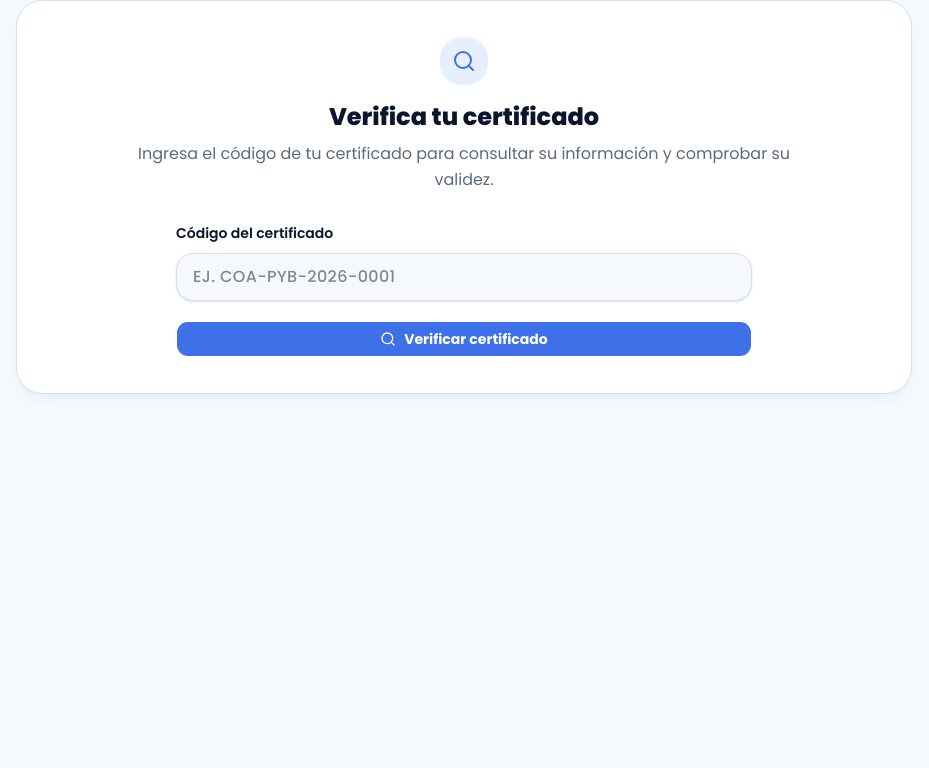
Scenario: uses Enter and finds a lowercase code with surrounding spaces
Type " coa-pyb-2026-0001 " into the field labelled "Código del certificado". click: (464, 277)
box: [176, 253, 752, 301]
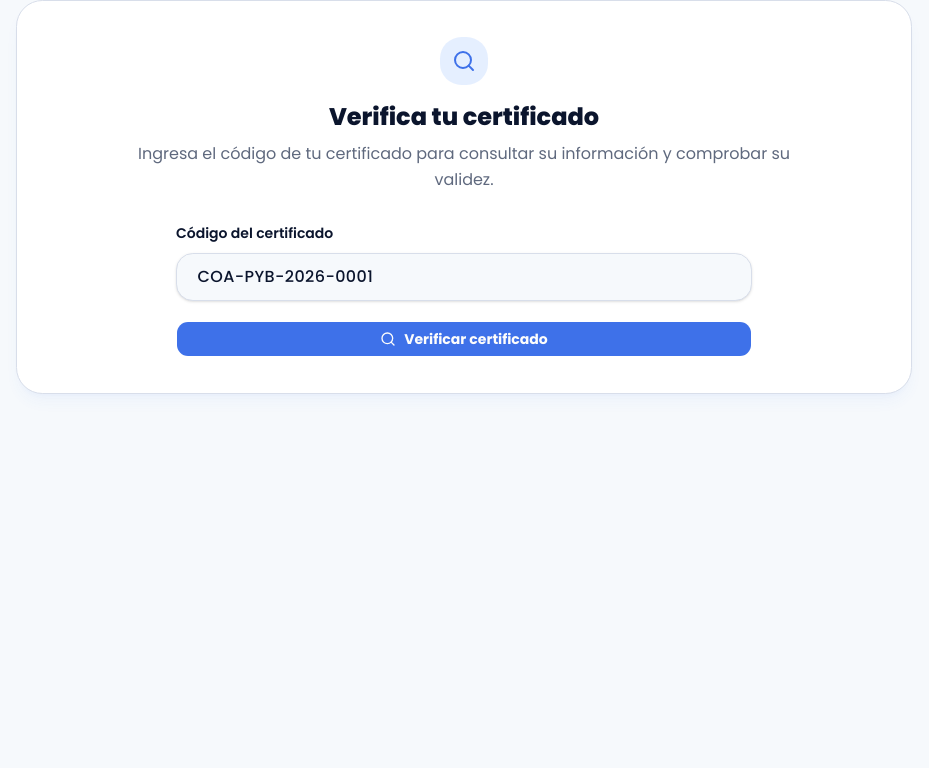
Submit the form named "Código del certificado", box [16, 0, 912, 394]
(page scrolled)
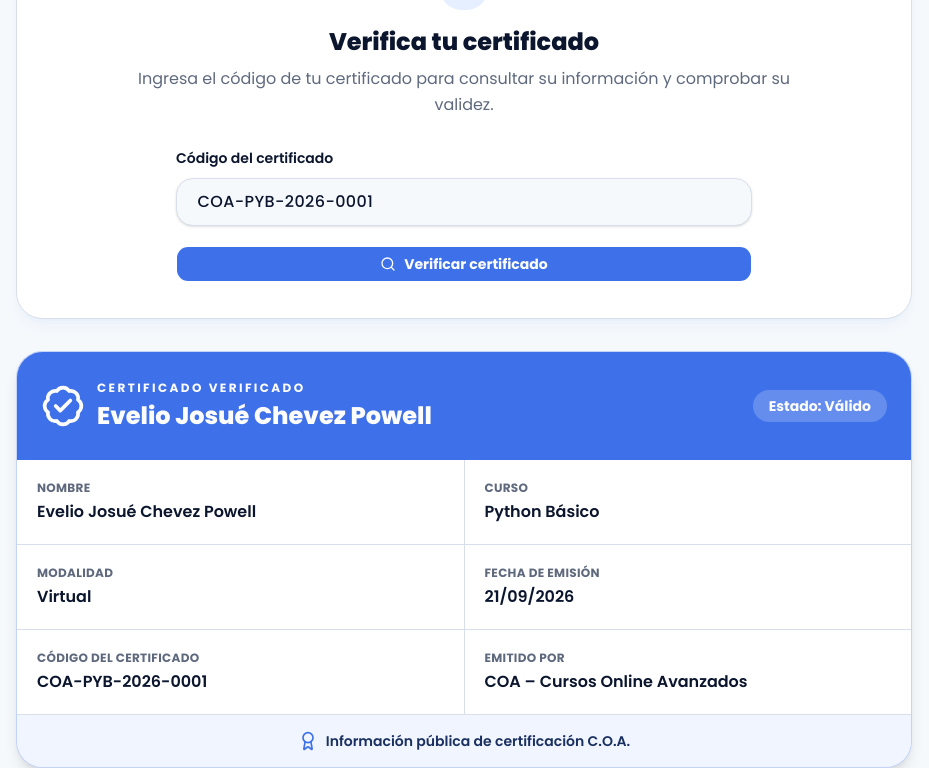
Expected: the element with test id "certificate-result" shows "COA-PYB-2026-0001", [37, 670, 207, 693]
Expected: the element with test id "certificate-result" shows "Estado: Válido", [16, 351, 912, 767]
